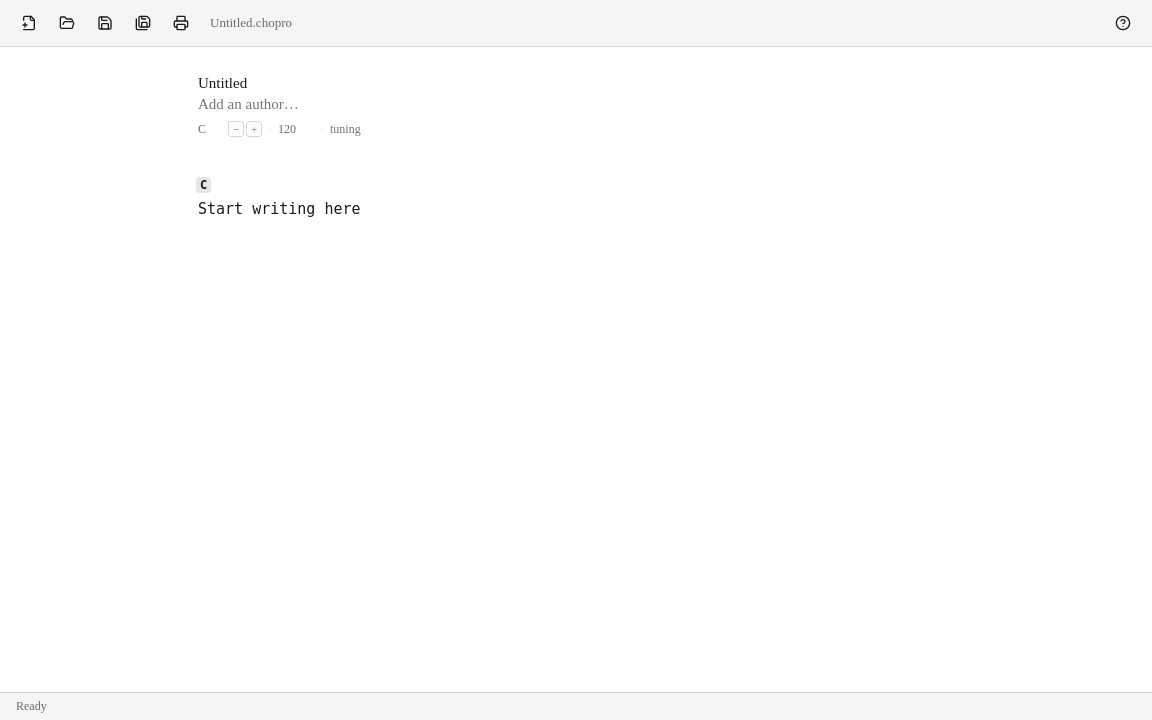
Scenario: transpose is a view, not an edit › shifts the chords on screen but leaves the written key field alone
The width and height of the screenshot is (1152, 720).
Check: the field named "key" holds "C", box [198,122,222,136]
Click the button named "Transpose up a semitone" at (254, 129), box [246,121,262,137]
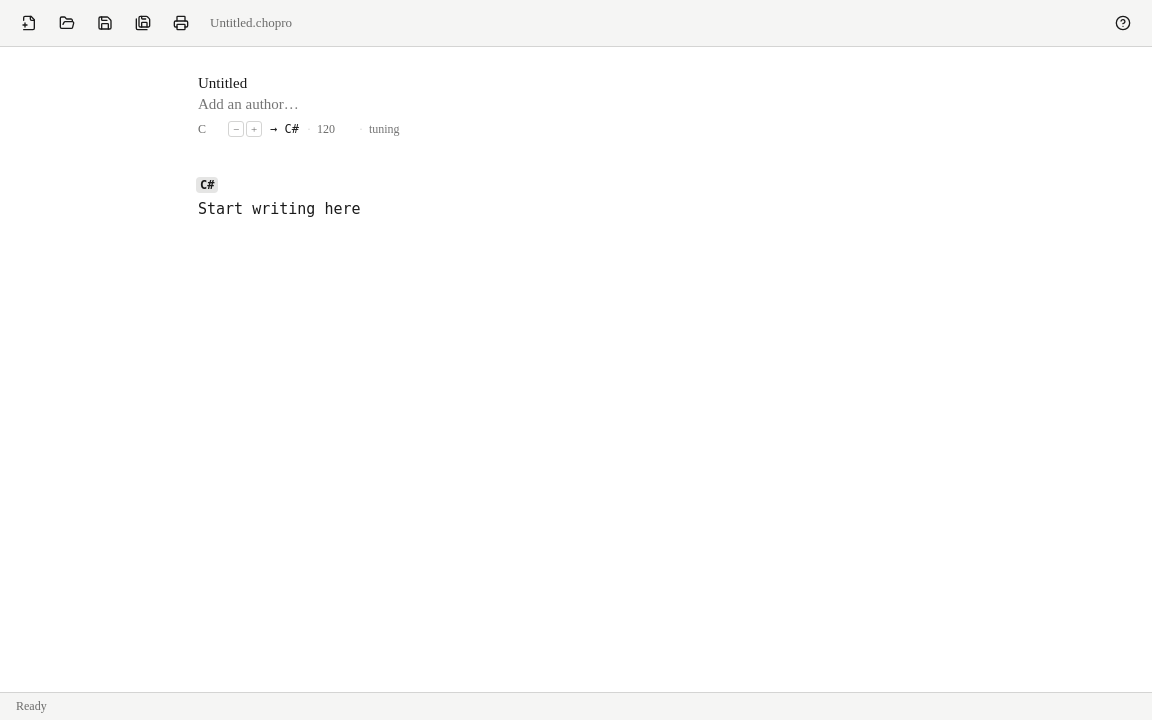
Check: the field named "key" holds "C", box [198,122,222,136]
Check: the button "C#" is shown, box [196,177,218,193]
